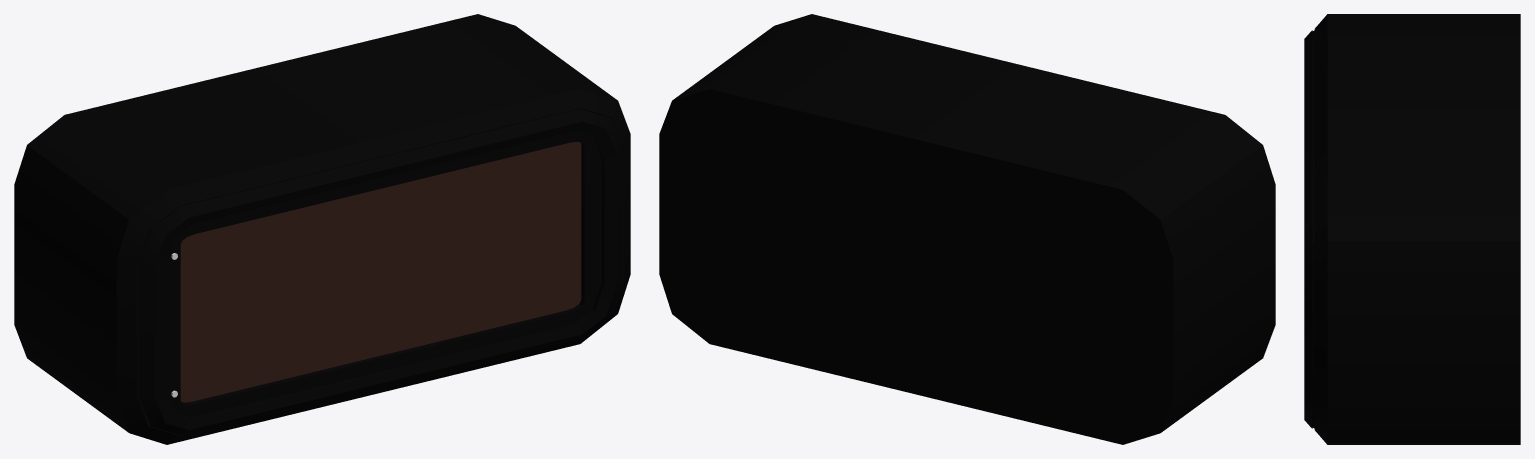
Rendered from Proyecto - Alarm Clock.fbx.
3 renders of one model, left to right at view 1: azimuth 30°, elevation 25°; view 2: azimuth 150°, elevation 25°; view 3: azimuth 270°, elevation 25°, orthographic. The views are drawn at different scales.
Visible parts, largest first — view 1: Alarm clock; view 2: Alarm clock; view 3: Alarm clock.
Boxes of the visible parts, bbox=[...] form: Alarm clock: bbox=[14, 14, 630, 444]; Alarm clock: bbox=[659, 14, 1275, 444]; Alarm clock: bbox=[1304, 14, 1520, 444].
Size of the model in its own units: 681 by 323 by 263.
